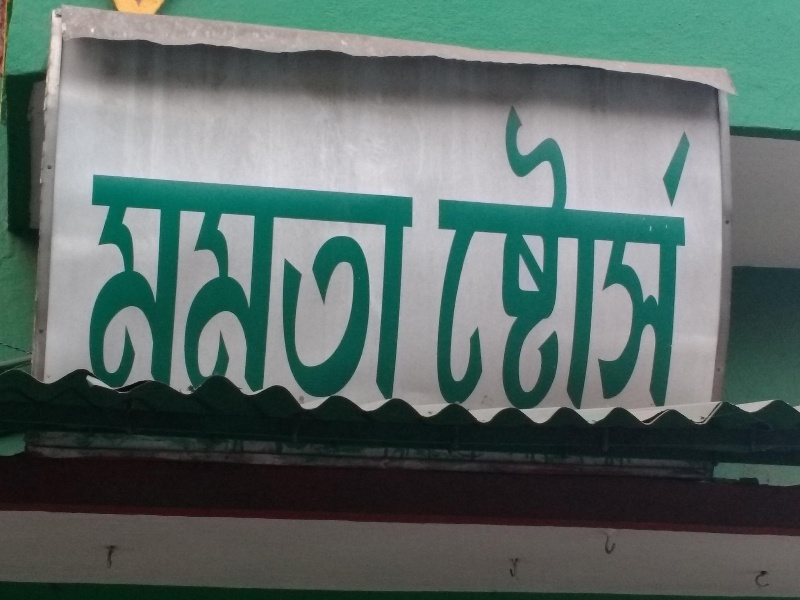text: (433, 101, 448, 413), (449, 101, 464, 413), (465, 101, 480, 413), (481, 101, 496, 413), (497, 101, 512, 413), (513, 101, 528, 413), (529, 101, 544, 413), (545, 101, 560, 413), (561, 101, 576, 413), (577, 101, 592, 413), (593, 101, 608, 413), (609, 101, 624, 413), (625, 101, 640, 413), (641, 101, 656, 413), (657, 101, 672, 413), (673, 101, 688, 413), (689, 101, 702, 413), (97, 174, 112, 402), (113, 174, 128, 402), (129, 174, 144, 402), (145, 174, 160, 402), (161, 174, 176, 402), (177, 174, 192, 402), (193, 174, 208, 402), (209, 174, 224, 402), (225, 174, 240, 402), (241, 174, 256, 402), (257, 174, 272, 402), (273, 174, 288, 402), (289, 174, 304, 402), (305, 174, 320, 402), (321, 174, 336, 402), (337, 174, 352, 402), (353, 174, 368, 402), (369, 174, 384, 402), (385, 174, 400, 402), (401, 174, 416, 402), (89, 174, 96, 402), (417, 174, 420, 402), (431, 101, 432, 413)
